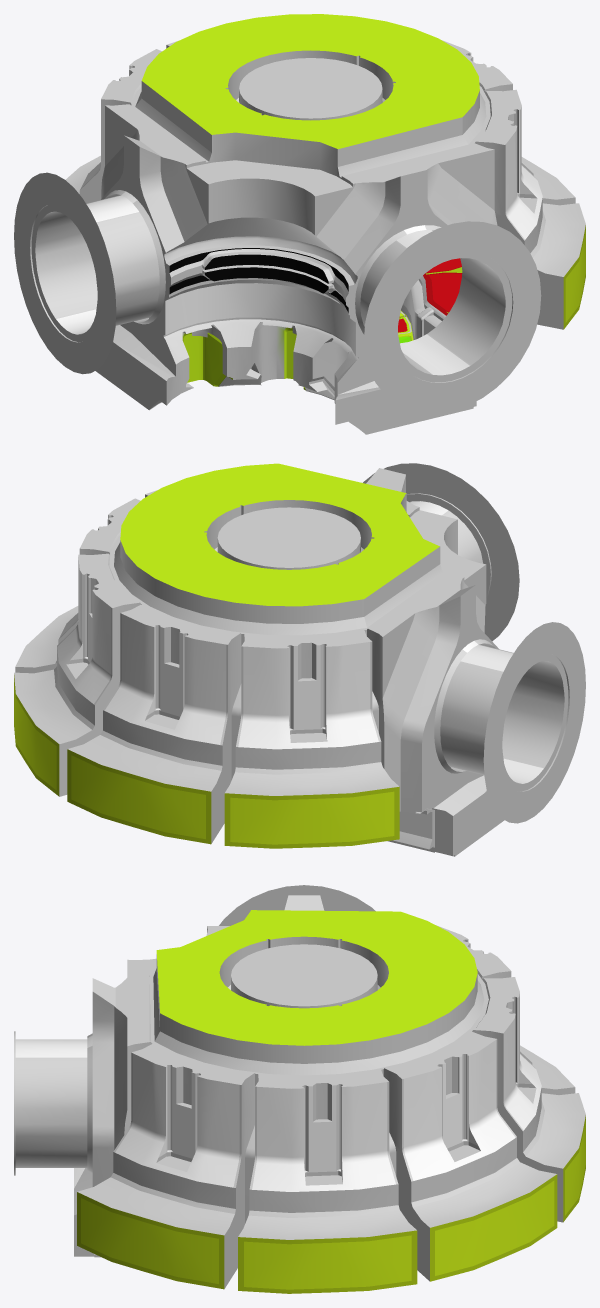
The model's file is part_main-lod0.dae.
3 renders of one model, top to bottom at view 1: azimuth 30°, elevation 25°; view 2: azimuth 150°, elevation 25°; view 3: azimuth 270°, elevation 25°, orthographic. The views are drawn at different scales.
Parts seen in each view (by area): view 1: part_main-lod0Xlod0Xp2genericXgen_p2_hulltexture_02, part_main-lod0Xlod0Xp2multimatXp2_multimat_01, part_main-lod0Xlod0Xp2genericXgen_p2_hulltexture_02_c, part_main-lod0Xlod0Xp2genericXgen_p2_fx_01, part_main-lod0Xlod0Xp2genericXgen_p2_hullpattern_01; view 2: part_main-lod0Xlod0Xp2genericXgen_p2_hulltexture_02, part_main-lod0Xlod0Xp2multimatXp2_multimat_01, part_main-lod0Xlod0Xp2genericXgen_p2_hulltexture_02_c; view 3: part_main-lod0Xlod0Xp2genericXgen_p2_hulltexture_02, part_main-lod0Xlod0Xp2multimatXp2_multimat_01, part_main-lod0Xlod0Xp2genericXgen_p2_hulltexture_02_c.
Boxes of the visible parts, x1,y1,x2,y2 form: part_main-lod0Xlod0Xp2genericXgen_p2_hulltexture_02: (14, 40, 585, 434); part_main-lod0Xlod0Xp2multimatXp2_multimat_01: (129, 14, 585, 343); part_main-lod0Xlod0Xp2genericXgen_p2_hulltexture_02_c: (56, 105, 542, 385); part_main-lod0Xlod0Xp2genericXgen_p2_fx_01: (205, 254, 328, 293); part_main-lod0Xlod0Xp2genericXgen_p2_hullpattern_01: (169, 248, 348, 312); part_main-lod0Xlod0Xp2genericXgen_p2_hulltexture_02: (14, 463, 585, 856); part_main-lod0Xlod0Xp2multimatXp2_multimat_01: (14, 463, 439, 844); part_main-lod0Xlod0Xp2genericXgen_p2_hulltexture_02_c: (57, 501, 543, 838); part_main-lod0Xlod0Xp2genericXgen_p2_hulltexture_02: (14, 885, 585, 1293); part_main-lod0Xlod0Xp2multimatXp2_multimat_01: (81, 910, 585, 1289); part_main-lod0Xlod0Xp2genericXgen_p2_hulltexture_02_c: (15, 994, 541, 1191).
Bounding box in the file's own units: 63.05 × 31.51 × 63.05.
